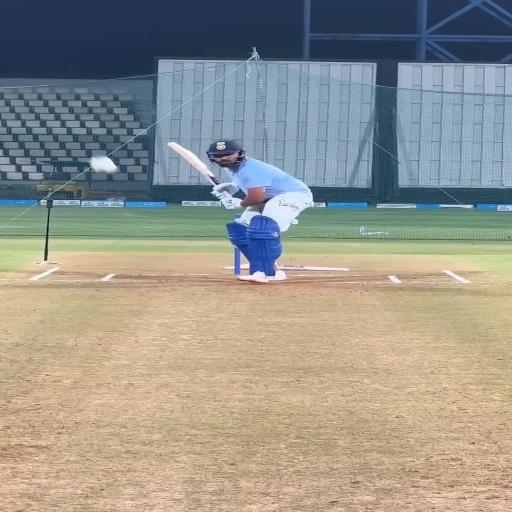Cricket bat: (168, 142, 217, 184)
